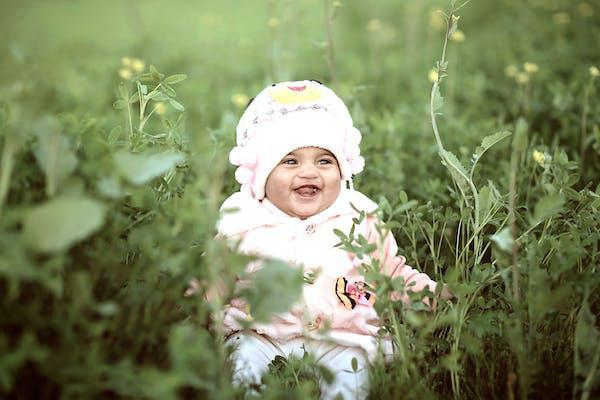child: (187, 68, 453, 399)
